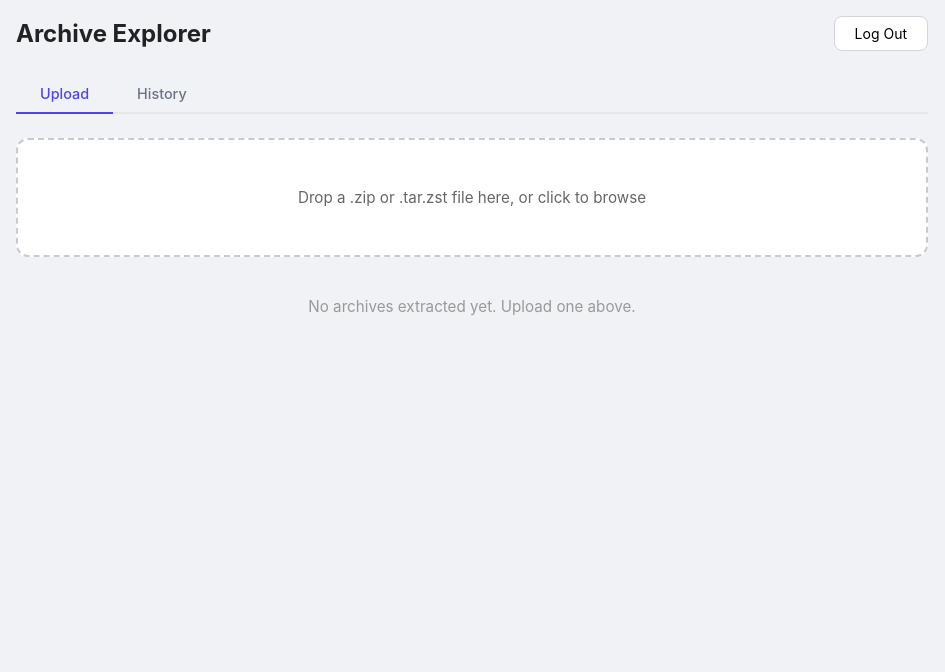
App › logs out when logout button clicked
Step 1. Click the button "Log Out" → (881, 34), box [834, 16, 928, 51]
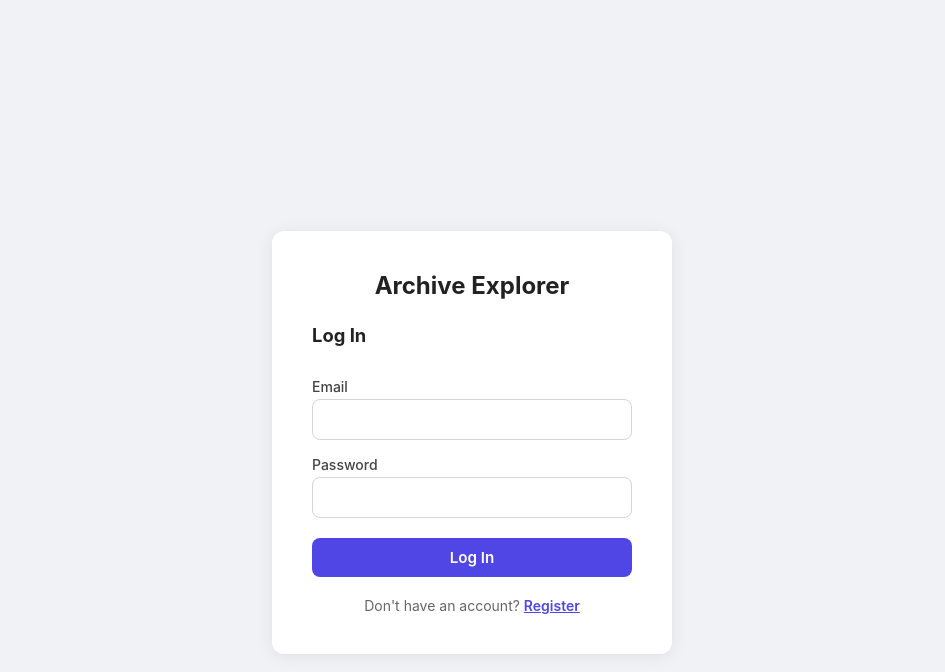
Now the button "Log In" is shown, box [312, 538, 632, 576]
